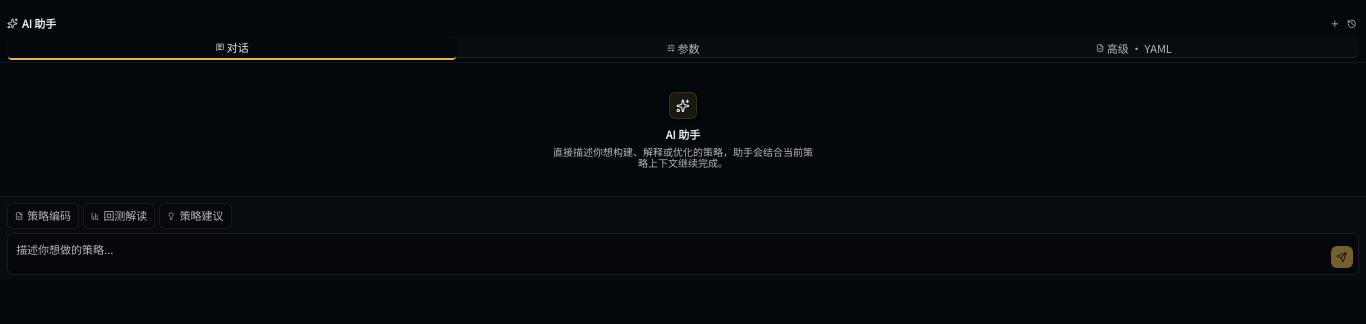
AiSidebar — B0 工具确认门(本面曾完全不处理审批事件) › 收到 tool_approval_request → 渲染确认卡(工具名+参数),同 id 只一张
In the text box with placeholder "描述你想做的策略...": [669, 254] box 13,238 -> 1325,270, type "帮我下单"
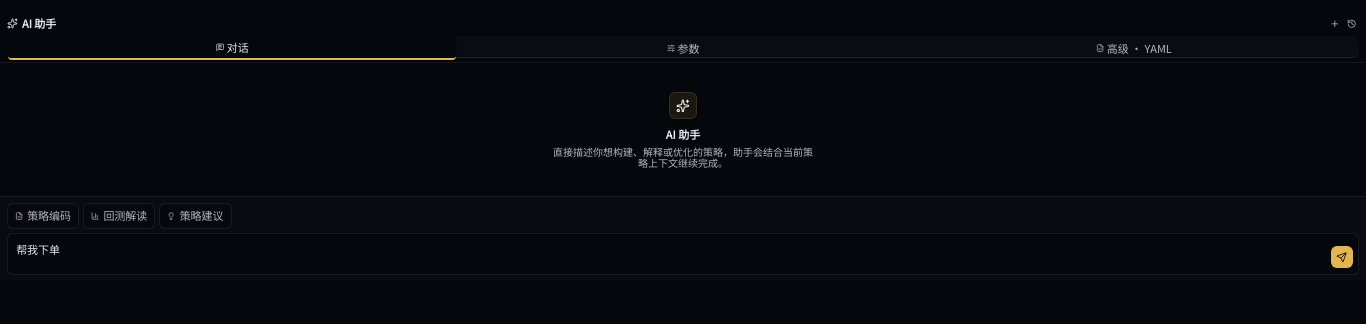
Press Enter in the text box with placeholder "描述你想做的策略...", box 13,238 -> 1325,270
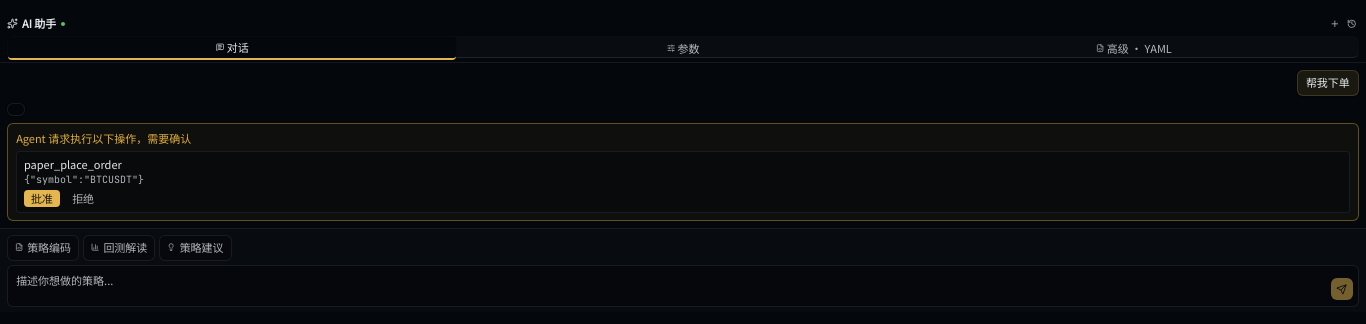
Now the text "Agent 请求执行以下操作，需要确认" is shown, box 16,130 -> 191,146
Now the text "{\"symbol\":\"BTCUSDT\"}" is shown, box 24,173 -> 144,186
Now the text "paper_place_order" is shown once, box 24,156 -> 122,172
